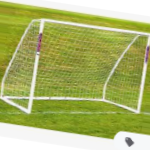goals: (1, 15, 150, 116)
